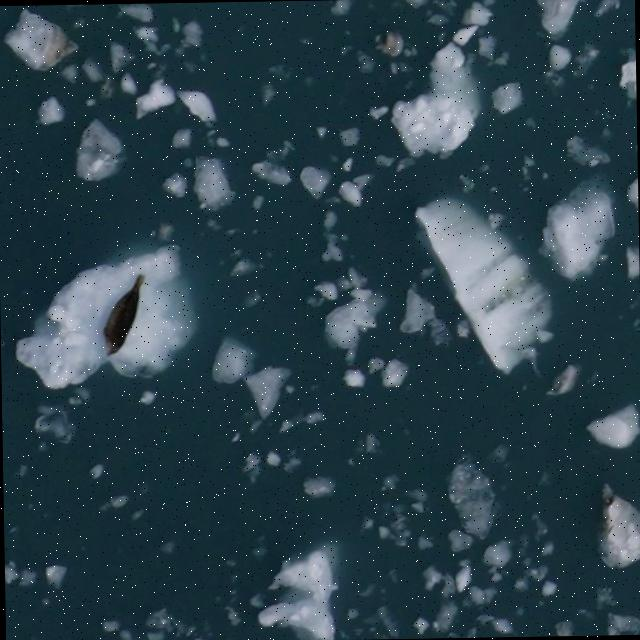seal: (103, 274, 146, 356)
